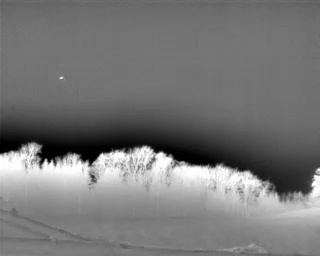BIRD: (57, 74, 66, 83)
